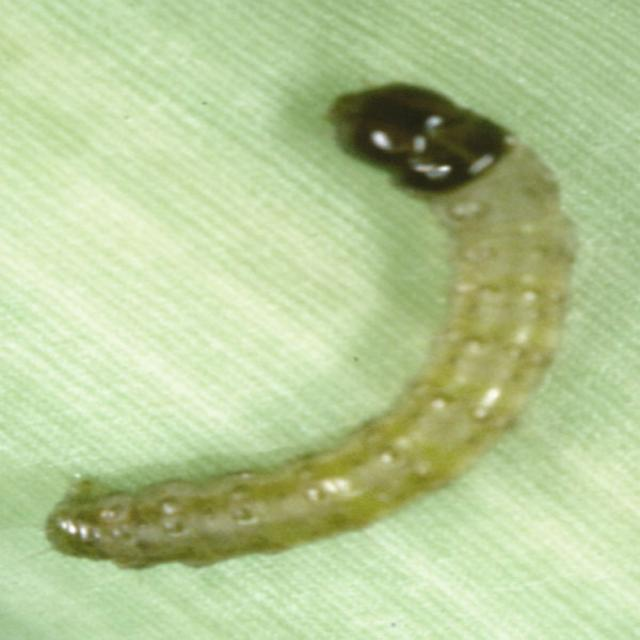cornborer-Larva-: (26, 74, 598, 575)
